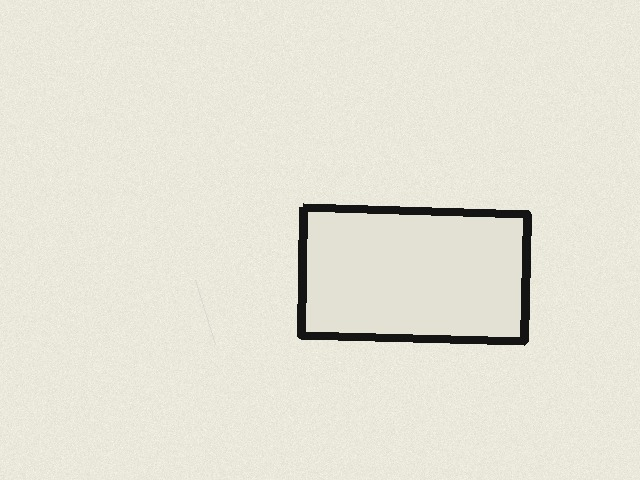parking_area: (301, 207, 527, 341)
